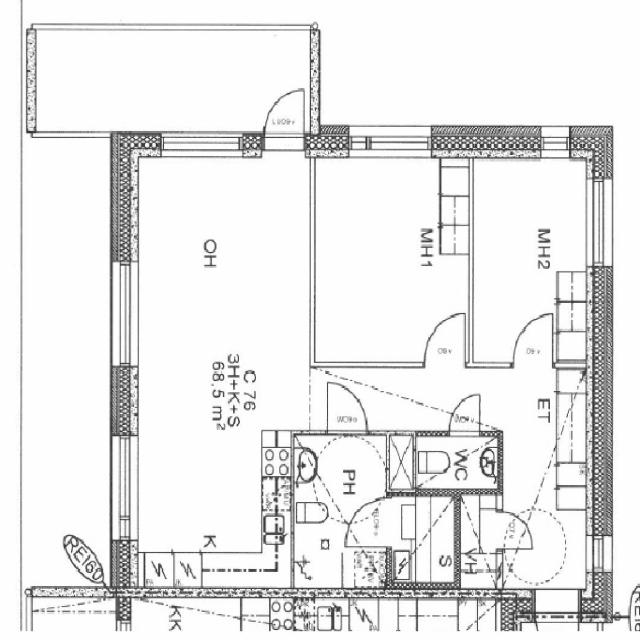door: (264, 83, 304, 158), (346, 499, 392, 546), (425, 313, 465, 367), (327, 382, 367, 433), (514, 315, 552, 366), (497, 512, 533, 548), (449, 392, 480, 433)
